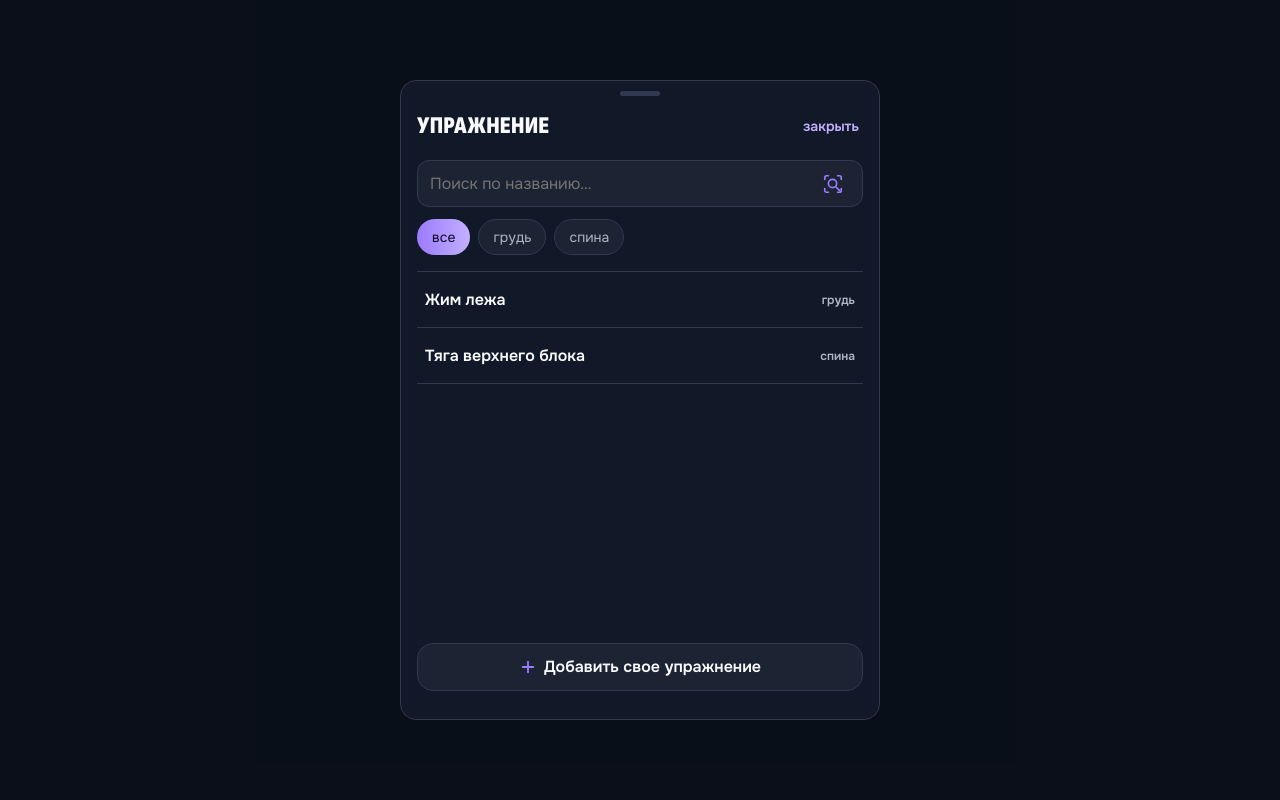
ExercisePicker — свое упражнение › сохранить не вышло — текст ошибки, форма остается; «назад» — к списку
This screenshot has width=1280, height=800.
Type "Пуловер" into the field with placeholder "Поиск по названию…".
click(640, 184); type("Пуловер")  # box [417,160,863,207]
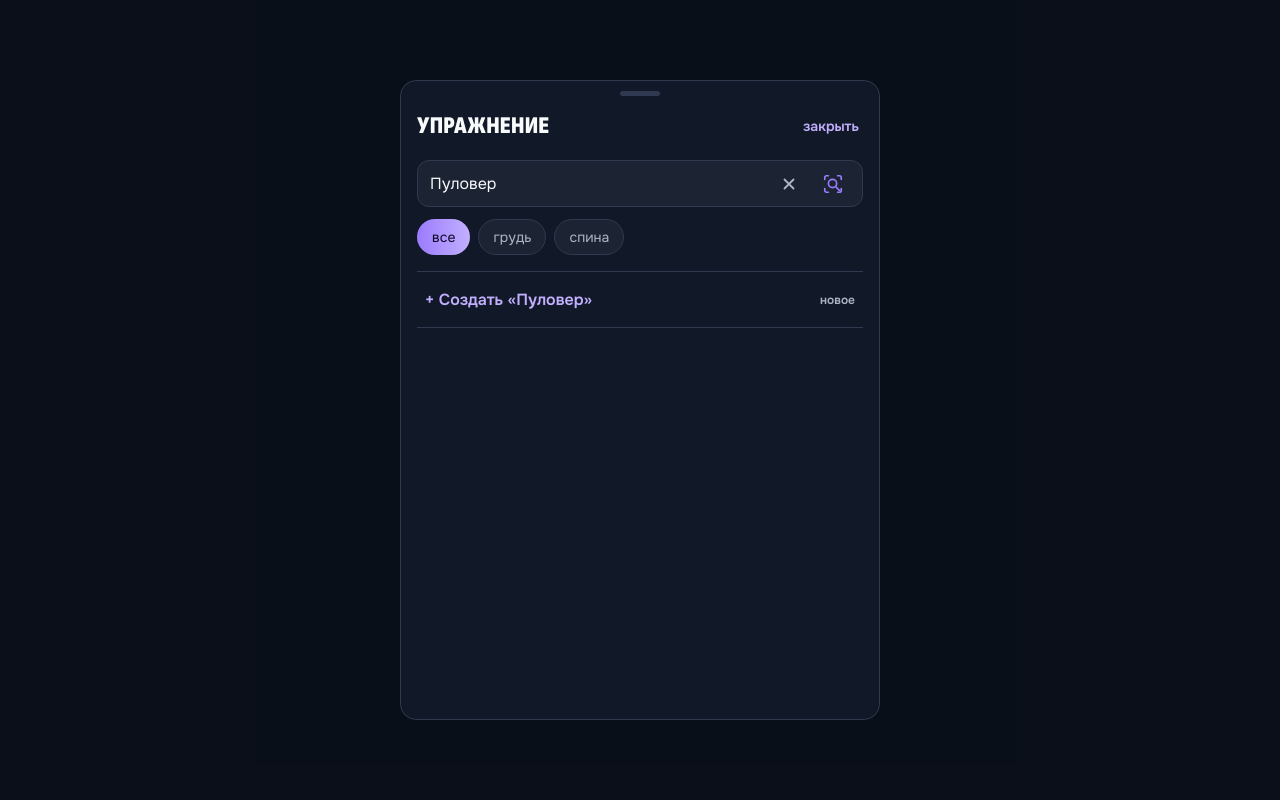
Click the text "+ Создать «Пуловер»".
click(509, 300)  # box [425,289,592,310]
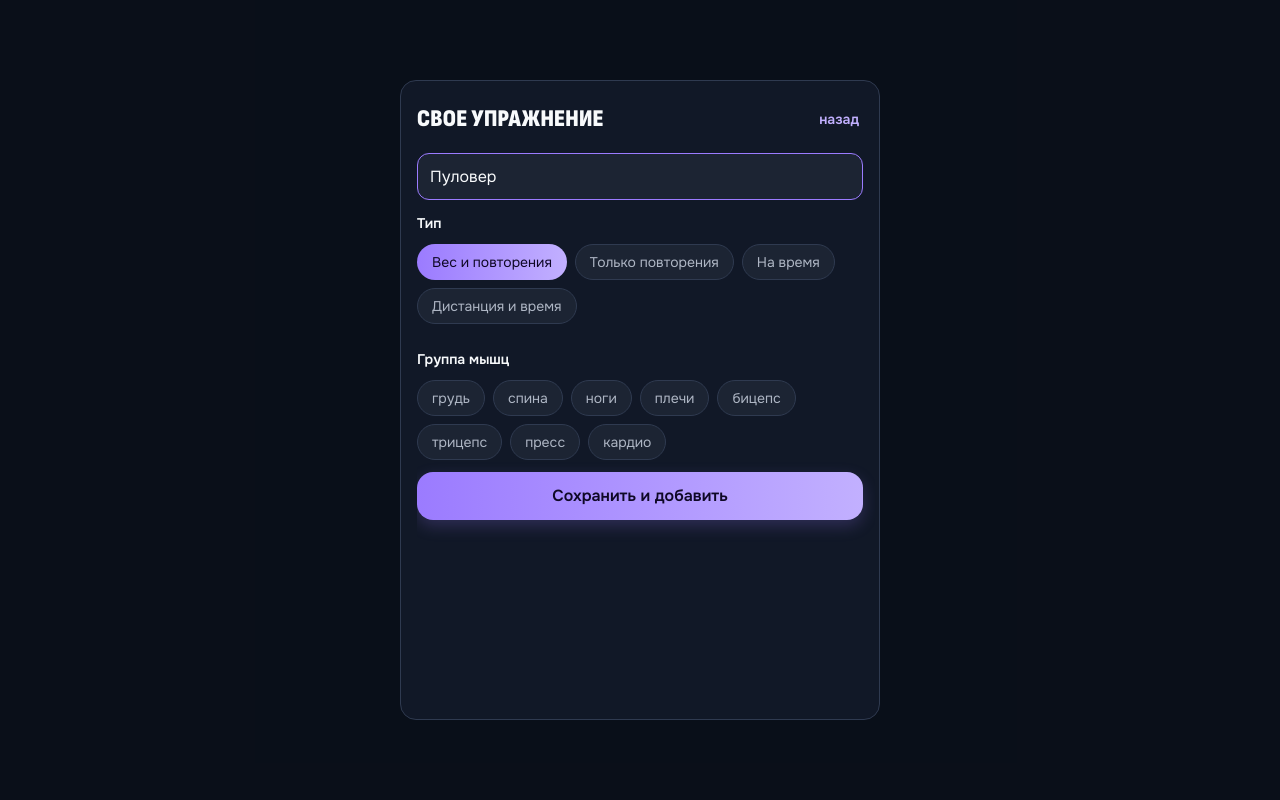
Click the button "грудь".
click(451, 398)  # box [417,380,485,416]
(page scrolled)
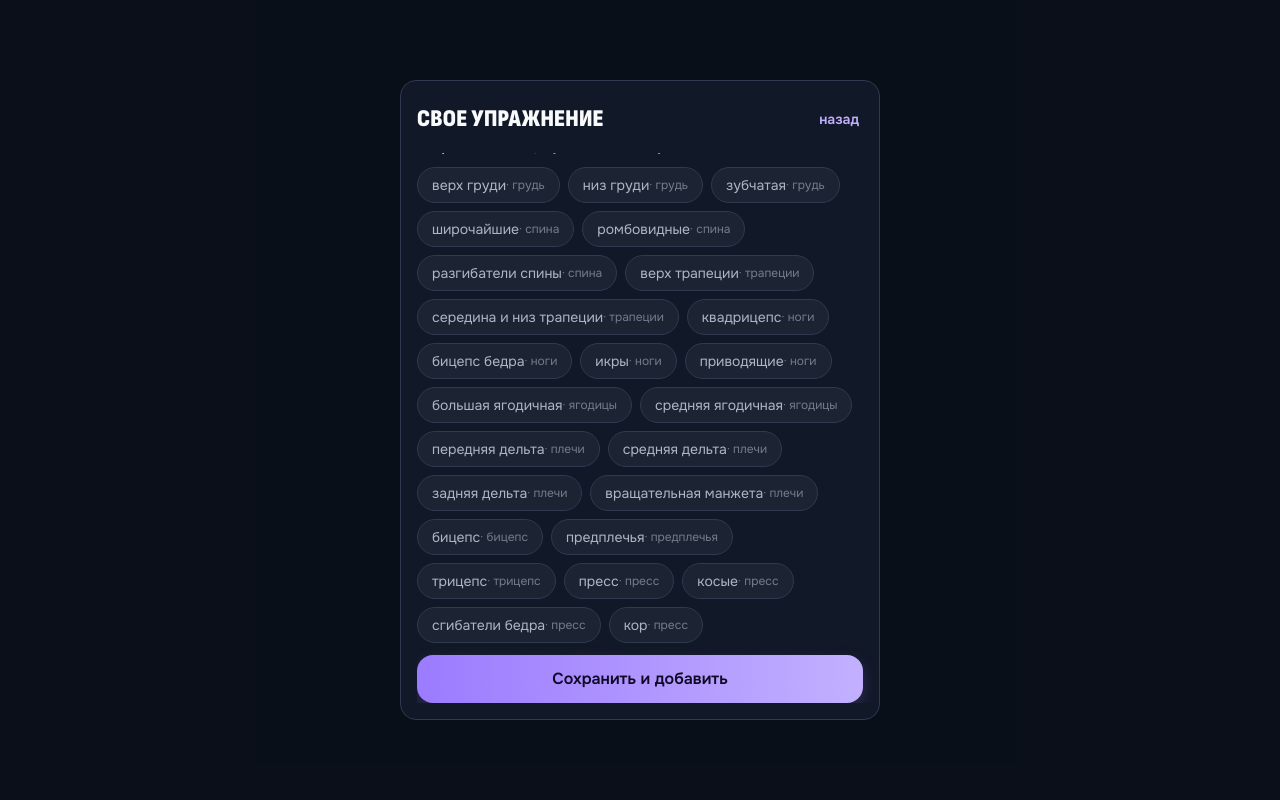
Click the button "Сохранить и добавить".
click(640, 679)  # box [417,655,863,703]
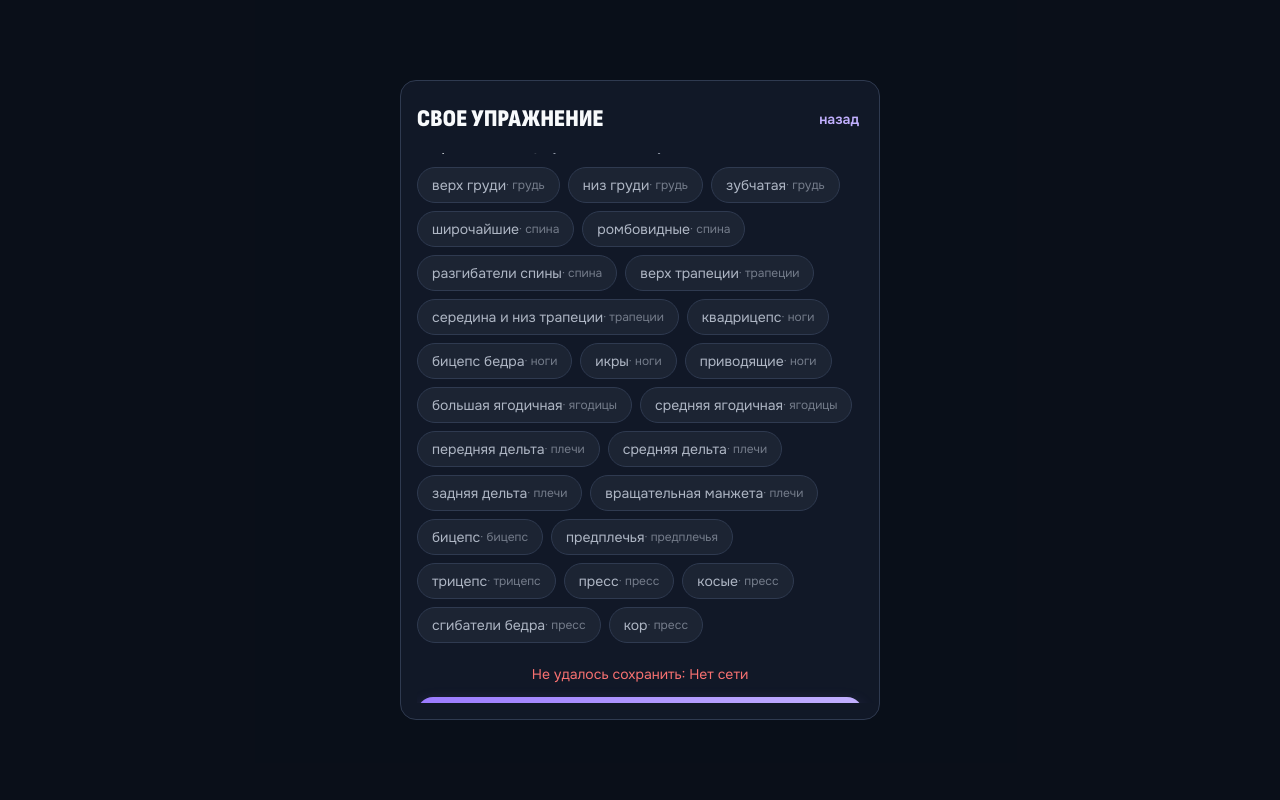
Now the text "Не удалось сохранить: Нет сети" is shown, box [532,665,748,683]
Click the button "назад".
click(839, 119)  # box [815,97,863,141]
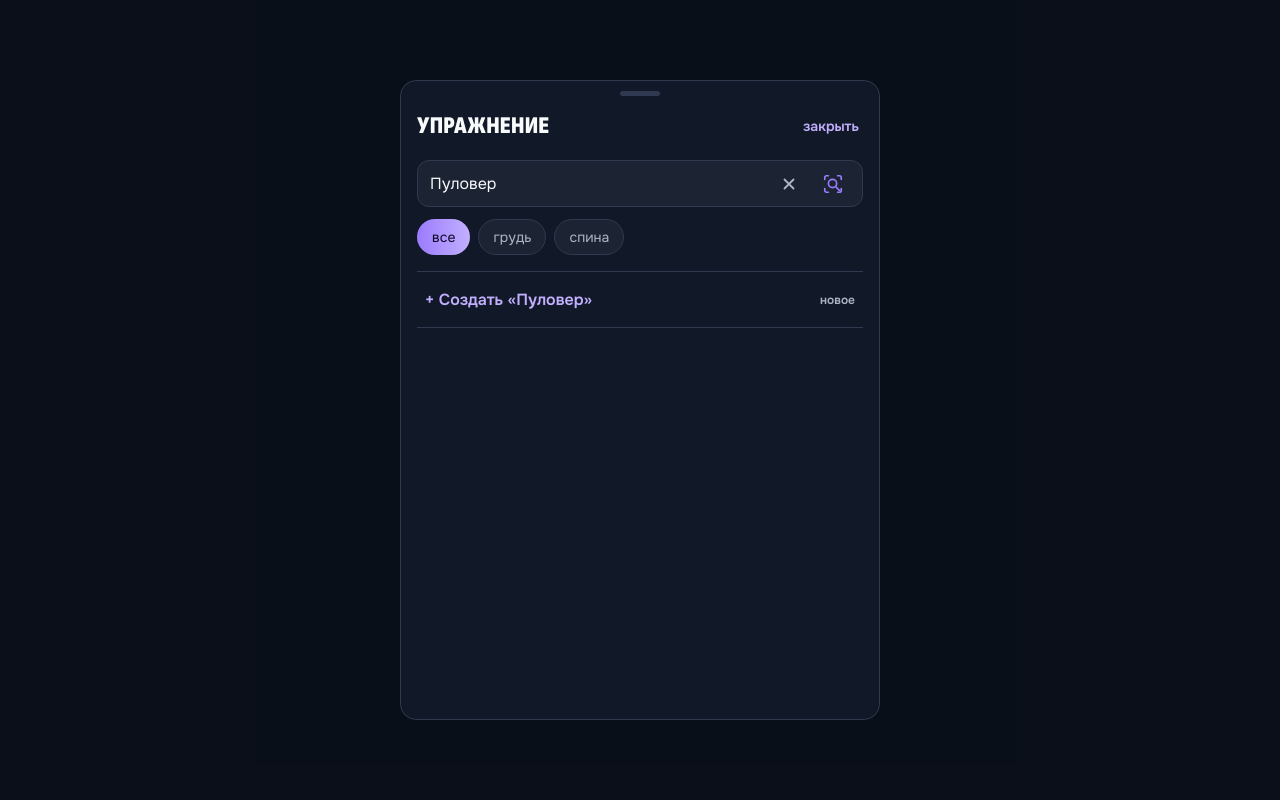
Now the field with placeholder "Поиск по названию…" is shown, box [417,160,863,207]
